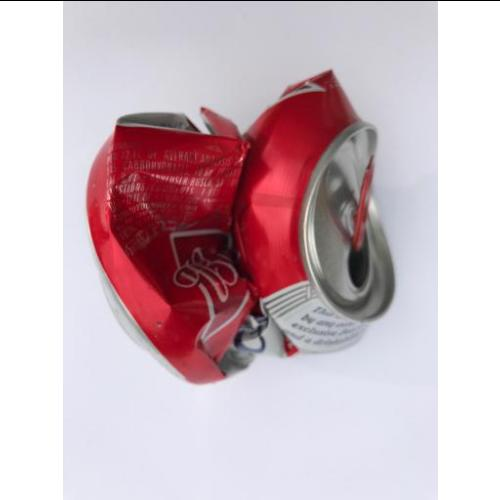metal: (85, 67, 394, 385)
